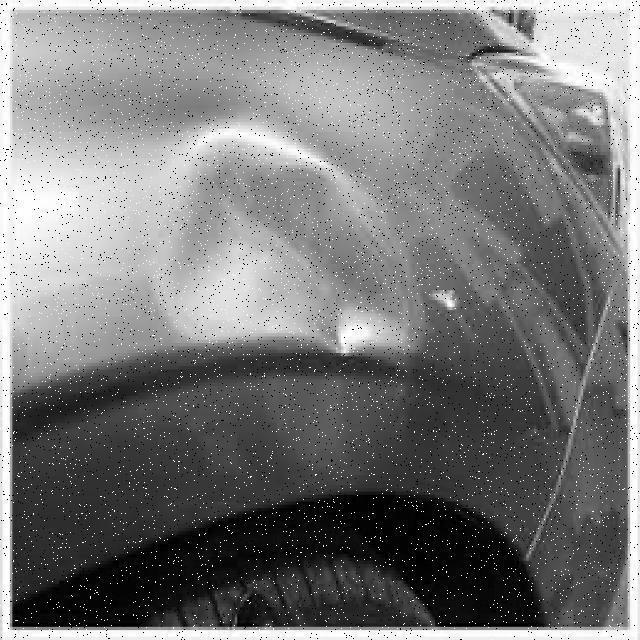fender-dent: (15, 13, 539, 597)
